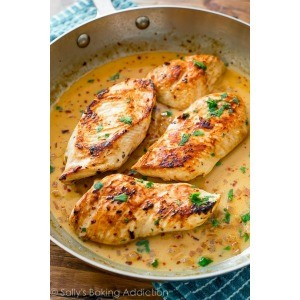chicken breast_brain food: (94, 186, 198, 245), (160, 122, 223, 168), (77, 111, 129, 166), (160, 60, 207, 94)
